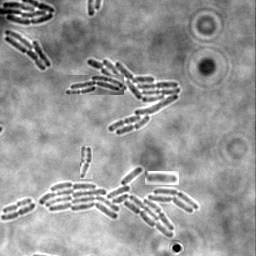Dividing: (1, 204, 37, 222), (3, 199, 33, 215), (145, 171, 179, 185), (80, 146, 93, 179)
Microcolony: (40, 167, 199, 238), (87, 59, 181, 136), (5, 30, 52, 72), (1, 1, 56, 26), (65, 75, 124, 95)
